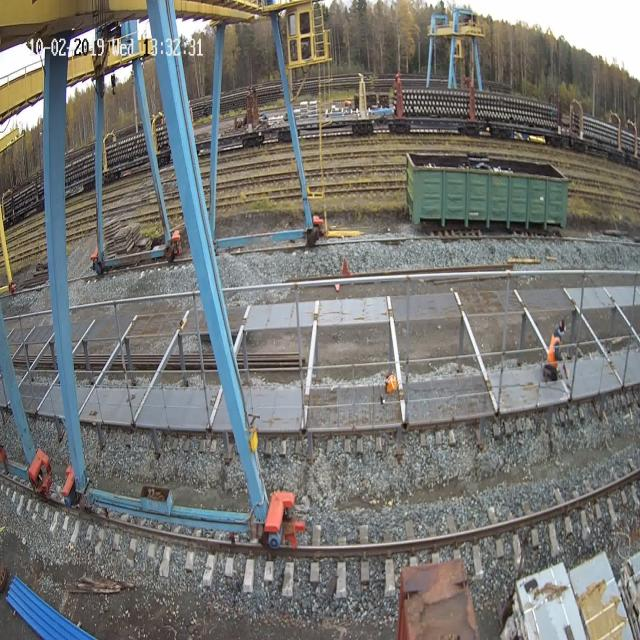Helmet: (559, 318, 565, 332)
Person: (543, 318, 566, 382)
